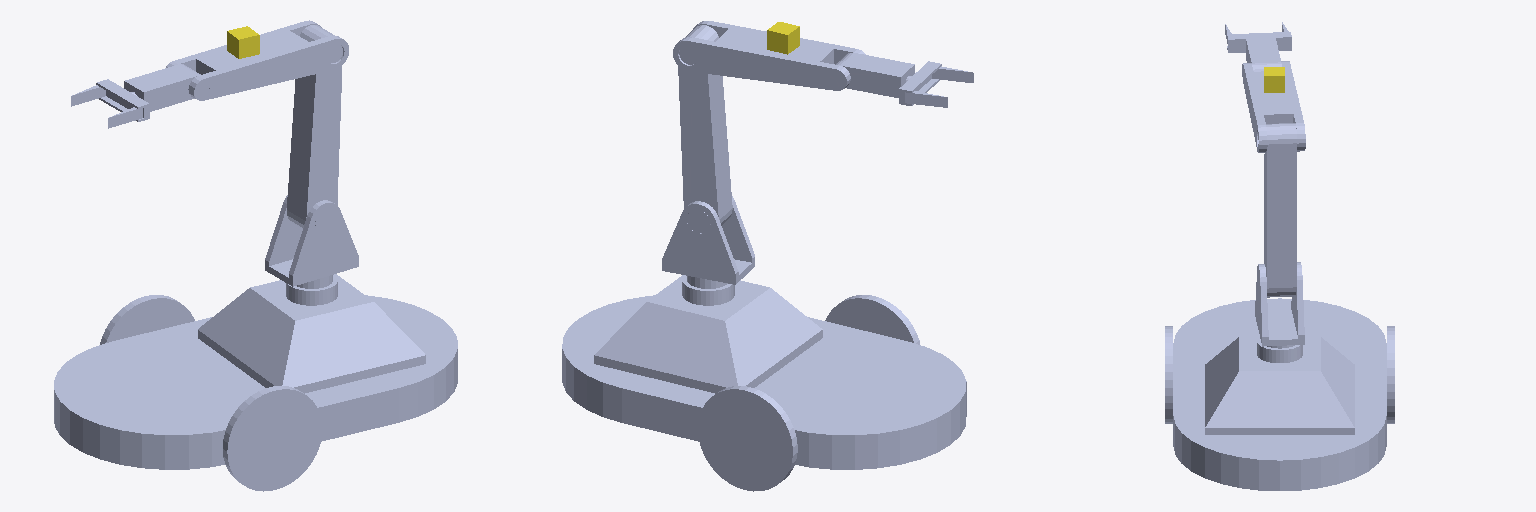
--- Facts derived from the render (not from the file) ---
Views: 3 orthographic renders of the robot side by side, from view 1: azimuth 30°, elevation 25°; view 2: azimuth 150°, elevation 25°; view 3: azimuth 270°, elevation 25°.
Model mobile with 13 links and 12 joints (5 revolute, 2 continuous, 2 prismatic, 3 fixed), rooted at base_link, posed every joint at zero.
Visible links, largest first — view 1: base_link, base_arm, rightlink, link2, link3, link1, leftlink, link4, link5, camera; view 2: base_link, base_arm, leftlink, link2, link3, link1, rightlink, link4, camera, link5; view 3: base_link, base_arm, link2, link3, link1, link4, leftlink, rightlink, link5, camera.
Boxes of the visible links, x1,y1,x2,y2 form: base_link: (54,295,457,469); base_arm: (198,274,425,393); rightlink: (223,386,322,491); link2: (287,25,342,232); link3: (166,20,348,100); link1: (265,195,358,288); leftlink: (100,295,194,344); link4: (124,64,208,111); link5: (96,79,149,121); camera: (227,26,259,58); base_link: (562,295,966,469); base_arm: (594,275,822,393); leftlink: (698,386,797,491); link2: (678,25,732,233); link3: (673,21,865,90); link1: (662,196,754,303); rightlink: (825,295,919,344); link4: (830,53,914,97); camera: (767,22,799,54); link5: (899,61,941,105); base_link: (1173,298,1386,490); base_arm: (1205,336,1354,434); link2: (1258,123,1296,297); link3: (1242,61,1305,152); link1: (1255,262,1304,348); link4: (1243,37,1281,79); leftlink: (1387,326,1394,423); rightlink: (1165,326,1172,423); link5: (1227,32,1291,52); camera: (1264,67,1284,92).
Bounding box of the posed robot: 0.9 × 0.54 × 0.9396 m (x, y, z).
Meshes: 12 distinct files referenced, 11 mesh visuals loaded (11 binary STL); not drawn: 1 (reference not matched to a file when rendering).

The robot description file, URDF, robot "mobile":
<?xml version="1.0" encoding="utf-8" ?>
<!-- This URDF was automatically created by SolidWorks to URDF Exporter! Originally created by Stephen Brawner ([email redacted]) 
     Commit Version: 1.6.0-4-g7f85cfe  Build Version: 1.6.7995.38578
     For more information, please see http://wiki.ros.org/sw_urdf_exporter -->
<robot name="mobile">
    <link name="base_link">
        <inertial>
            <origin xyz="0.0138190144496119 0 -0.0431673900274688" rpy="0 0 0" />
            <mass value="31.7075369483224" />
            <inertia ixx="0.575605061304987" ixy="3.51082356052424E-16" ixz="0.0186981817600818" iyy="1.81309521166369" iyz="2.71935379746767E-18" izz="2.34074148213745" />
        </inertial>
        <visual>
            <origin xyz="0 0 0" rpy="0 0 0" />
            <geometry>
                <mesh filename="package://mobile/meshes/base_link.STL" />
            </geometry>
            <material name="">
                <color rgba="0.792156862745098 0.819607843137255 0.933333333333333 1" />
            </material>
        </visual>
        <collision>
            <origin xyz="0 0 0" rpy="0 0 0" />
            <geometry>
                <mesh filename="package://mobile/meshes/base_link.STL" />
            </geometry>
        </collision>
    </link>
    <link name="leftlink">
        <inertial>
            <origin xyz="0 -0.0150888529886914 1.11022302462516E-16" rpy="0 0 0" />
            <mass value="0.972322926286042" />
            <inertia ixx="0.00298429263256057" ixy="-4.06865911972671E-20" ixz="6.21951588041205E-19" iyy="0.00555828243731783" iyz="-4.3528684667429E-20" izz="0.00298429263256057" />
        </inertial>
        <visual>
            <origin xyz="0 0 0" rpy="0 0 0" />
            <geometry>
                <mesh filename="package://mobile/meshes/leftlink.STL" />
            </geometry>
            <material name="">
                <color rgba="0.792156862745098 0.819607843137255 0.933333333333333 1" />
            </material>
        </visual>
        <collision>
            <origin xyz="0 0 0" rpy="0 0 0" />
            <geometry>
                <mesh filename="package://mobile/meshes/leftlink.STL" />
            </geometry>
        </collision>
    </link>
    <joint name="leftjoint" type="continuous">
        <origin xyz="-0.11 0.27 -0.04" rpy="0 0 0" />
        <parent link="base_link" />
        <child link="leftlink" />
        <axis xyz="0 -1 0" />
        <limit effort="1" velocity="1" />
    </joint>
    <link name="rightlink">
        <inertial>
            <origin xyz="0 0.0150888529886914 0" rpy="0 0 0" />
            <mass value="0.97232292628604" />
            <inertia ixx="0.00298429263256056" ixy="5.64638728743207E-20" ixz="-8.62185923183121E-35" iyy="0.00555828243731782" iyz="-1.36346232656228E-35" izz="0.00298429263256056" />
        </inertial>
        <visual>
            <origin xyz="0 0 0" rpy="0 0 0" />
            <geometry>
                <mesh filename="package://mobile/meshes/rightlink.STL" />
            </geometry>
            <material name="">
                <color rgba="0.792156862745098 0.819607843137255 0.933333333333333 1" />
            </material>
        </visual>
        <collision>
            <origin xyz="0 0 0" rpy="0 0 0" />
            <geometry>
                <mesh filename="package://mobile/meshes/rightlink.STL" />
            </geometry>
        </collision>
    </link>
    <joint name="rightjoint" type="continuous">
        <origin xyz="-0.11 -0.27 -0.04" rpy="0 0 0" />
        <parent link="base_link" />
        <child link="rightlink" />
        <axis xyz="0 -1 0" />
    </joint>
    <link name="base_arm">
        <inertial>
            <origin xyz="0.135 0 0.0513630393832272" rpy="0 0 0" />
            <mass value="9.57504950586454" />
            <inertia ixx="0.0928627005287626" ixy="-2.14059146999494E-17" ixz="7.75348749148665E-18" iyy="0.0928627005287626" iyz="-9.62616851588067E-18" izz="0.163110185871387" />
        </inertial>
        <visual>
            <origin xyz="0 0 0" rpy="0 0 0" />
            <geometry>
                <mesh filename="package://mobile/meshes/base_arm.STL" />
            </geometry>
            <material name="">
                <color rgba="0.792156862745098 0.819607843137255 0.933333333333333 1" />
            </material>
        </visual>
        <collision>
            <origin xyz="0 0 0" rpy="0 0 0" />
            <geometry>
                <mesh filename="package://mobile/meshes/base_arm.STL" />
            </geometry>
        </collision>
    </link>
    <joint name="base_arm_j" type="fixed">
        <origin xyz="0 0 0" rpy="0 0 0" />
        <parent link="base_link" />
        <child link="base_arm" />
        <axis xyz="0 0 0" />
    </joint>
    <link name="link1">
        <inertial>
            <origin xyz="1.60982338570648E-15 9.99200722162641E-16 0.0962519948396813" rpy="0 0 0" />
            <mass value="1.2867673371048" />
            <inertia ixx="0.00574899022438492" ixy="-3.08328527862465E-05" ixz="5.9130393376342E-19" iyy="0.00605670094642953" iyz="-1.55333022598435E-18" izz="0.00299466513021321" />
        </inertial>
        <visual>
            <origin xyz="0 0 0" rpy="0 0 0" />
            <geometry>
                <mesh filename="package://mobile/meshes/link1.STL" />
            </geometry>
            <material name="">
                <color rgba="0.792156862745098 0.819607843137255 0.933333333333333 1" />
            </material>
        </visual>
        <collision>
            <origin xyz="0 0 0" rpy="0 0 0" />
            <geometry>
                <mesh filename="package://mobile/meshes/link1.STL" />
            </geometry>
        </collision>
    </link>
    <joint name="link1_j" type="revolute">
        <origin xyz="0.135 0 0.1" rpy="0 0 0" />
        <parent link="base_arm" />
        <child link="link1" />
        <axis xyz="0 0 1" />
        <limit lower="0" upper="6.284" effort="300" velocity="3" />
    </joint>
    <link name="link2">
        <inertial>
            <origin xyz="0.0152793909089112 -0.0487295487047015 0.17785147178054" rpy="0 0 0" />
            <mass value="2.35926366465447" />
            <inertia ixx="0.0409676709612601" ixy="3.73610748781228E-07" ixz="-0.00225874714320909" iyy="0.0409639423399071" iyz="-0.000224100350712859" izz="0.00226006139791823" />
        </inertial>
        <visual>
            <origin xyz="0 0 0" rpy="0 0 0" />
            <geometry>
                <mesh filename="package://mobile/meshes/link2.STL" />
            </geometry>
            <material name="">
                <color rgba="0.792156862745098 0.819607843137255 0.933333333333333 1" />
            </material>
        </visual>
        <collision>
            <origin xyz="0 0 0" rpy="0 0 0" />
            <geometry>
                <mesh filename="package://mobile/meshes/link2.STL" />
            </geometry>
        </collision>
    </link>
    <joint name="link2_j" type="revolute">
        <origin xyz="-0.00493648572628486 0.0497557143318654 0.22" rpy="0 0 0" />
        <parent link="link1" />
        <child link="link2" />
        <axis xyz="0.098729714525699 -0.995114286637306 0" />
        <limit lower="-1.57" upper="1.982" effort="300" velocity="3" />
    </joint>
    <link name="link3">
        <inertial>
            <origin xyz="-0.159186253677725 -0.0710636098100677 0.00486332831886899" rpy="0 0 0" />
            <mass value="1.84613046379197" />
            <inertia ixx="0.00284341050510619" ixy="-0.0011552709461591" ixz="0.000389853066158717" iyy="0.0143729715049999" iyz="3.86790567130589E-05" izz="0.0160431107662921" />
        </inertial>
        <visual>
            <origin xyz="0 0 0" rpy="0 0 0" />
            <geometry>
                <mesh filename="package://mobile/meshes/link3.STL" />
            </geometry>
            <material name="">
                <color rgba="0.792156862745098 0.819607843137255 0.933333333333333 1" />
            </material>
        </visual>
        <collision>
            <origin xyz="0 0 0" rpy="0 0 0" />
            <geometry>
                <mesh filename="package://mobile/meshes/link3.STL" />
            </geometry>
        </collision>
    </link>
    <joint name="link3_j" type="revolute">
        <origin xyz="0.0215748788843777 0.007165088200347 0.379479461423349" rpy="0 0 0" />
        <parent link="link2" />
        <child link="link3" />
        <axis xyz="-0.0987297145256989 0.995114286637306 0" />
        <limit lower="-0.7" upper="1.65" effort="200" velocity="3" />
    </joint>
    <link name="link4">
        <inertial>
            <origin xyz="-0.05024889842285 -0.0602554502550051 1.38777878078145E-17" rpy="0 0 0" />
            <mass value="0.577179196137117" />
            <inertia ixx="0.000409291654613533" ixy="-9.37772265644118E-05" ixz="-1.21006663501339E-19" iyy="0.00134518488179969" iyz="8.80934192830478E-20" izz="0.00152642026654833" />
        </inertial>
        <visual>
            <origin xyz="0 0 0" rpy="0 0 0" />
            <geometry>
                <mesh filename="package://mobile/meshes/link4 .STL" />
            </geometry>
            <material name="">
                <color rgba="0.792156862745098 0.819607843137255 0.933333333333333 1" />
            </material>
        </visual>
        <collision>
            <origin xyz="0 0 0" rpy="0 0 0" />
            <geometry>
                <mesh filename="package://mobile/meshes/link4 .STL" />
            </geometry>
        </collision>
    </link>
    <joint name="link4_j" type="revolute">
        <origin xyz="-0.338485039839798 -0.033582606343168 0.00999999999999998" rpy="0 0 0" />
        <parent link="link3" />
        <child link="link4" />
        <axis xyz="-0.0987297145256988 0.995114286637306 0" />
        <limit lower="0.0" upper="2.5" effort="200" velocity="3" />
    </joint>
    <link name="link5">
        <inertial>
            <origin xyz="-0.0305789188235419 -0.00303387054782905 -1.38777878078145E-17" rpy="0 0 0" />
            <mass value="0.112049224746715" />
            <inertia ixx="0.000202087727609559" ixy="1.76199067891951E-05" ixz="-1.11543755946178E-20" iyy="2.62417143311385E-05" iyz="1.1529456435668E-19" izz="0.00020118887750736" />
        </inertial>
        <visual>
            <origin xyz="0 0 0" rpy="0 0 0" />
            <geometry>
                <mesh filename="package://mobile/meshes/link5 .STL" />
            </geometry>
            <material name="">
                <color rgba="0.792156862745098 0.819607843137255 0.933333333333333 1" />
            </material>
        </visual>
        <collision>
            <origin xyz="0 0 0" rpy="0 0 0" />
            <geometry>
                <mesh filename="package://mobile/meshes/link5 .STL" />
            </geometry>
        </collision>
    </link>
    <joint name="link5_j" type="revolute">
        <origin xyz="-0.124929837250573 -0.0676648783679186 0" rpy="0 0 0" />
        <parent link="link4" />
        <child link="link5" />
        <axis xyz="-0.995114286637306 -0.0987297145257001 0" />
        <limit lower="0" upper="3.142" effort="200" velocity="3" />
    </joint>
    <link name="grip1">
        <inertial>
            <origin xyz="-0.0214211541590298 0.0639776643764789 -0.015" rpy="0 0 0" />
            <mass value="0.016875" />
            <inertia ixx="1.28615243383173E-06" ixy="-1.34581750830488E-06" ixz="-1.34022471571019E-21" iyy="8.27634756616828E-06" iyz="-4.81344786060294E-22" izz="7.80468750000001E-06" />
        </inertial>
        <visual>
            <origin xyz="0 0 0" rpy="0 0 0" />
            <geometry>
                <mesh filename="package://mobile/meshes/grip1.STL" />
            </geometry>
            <material name="">
                <color rgba="0.792156862745098 0.819607843137255 0.933333333333333 1" />
            </material>
        </visual>
        <collision>
            <origin xyz="0 0 0" rpy="0 0 0" />
            <geometry>
                <mesh filename="package://mobile/meshes/grip1.STL" />
            </geometry>
        </collision>
    </link>
    <joint name="grip1_j" type="prismatic">
        <origin xyz="-0.0517459429051399 -0.00513394515533633 0.015" rpy="0 0 0" />
        <parent link="link5" />
        <child link="grip1" />
        <axis xyz="-0.098729714525699 0.995114286637306 0" />
        <limit lower="-0.05" upper="0" effort="200" velocity="3" />
    </joint>
    <link name="grip2">
        <inertial>
            <origin xyz="-0.00823826841331998 -0.0688949769320137 -0.0149999999999999" rpy="0 0 0" />
            <mass value="0.016875" />
            <inertia ixx="1.28615243383173E-06" ixy="-1.34581750830488E-06" ixz="-4.06011194401537E-21" iyy="8.27634756616828E-06" iyz="-6.56629635238384E-22" izz="7.80468750000001E-06" />
        </inertial>
        <visual>
            <origin xyz="0 0 0" rpy="0 0 0" />
            <geometry>
                <mesh filename="package://mobile/meshes/grip2.STL" />
            </geometry>
            <material name="">
                <color rgba="0.792156862745098 0.819607843137255 0.933333333333333 1" />
            </material>
        </visual>
        <collision>
            <origin xyz="0 0 0" rpy="0 0 0" />
            <geometry>
                <mesh filename="package://mobile/meshes/grip2.STL" />
            </geometry>
        </collision>
    </link>
    <joint name="grip2_j" type="prismatic">
        <origin xyz="-0.0517459429051399 -0.00513394515533633 0.015" rpy="0 0 0" />
        <parent link="link5" />
        <child link="grip2" />
        <axis xyz="-0.098729714525699 0.995114286637306 0" />
        <limit lower="0" upper="0.05" effort="200" velocity="3" />
    </joint>
    <!-- Camera -->
    <link name="camera">
        <collision>
            <origin xyz="0.0 0.0 0.0" rpy="0 0 0" />
            <geometry>
                <box size="0.05 0.05 0.05" />
            </geometry>
        </collision>
        <visual>
            <origin xyz="0.0 0.0 0.0" rpy="0 0 0" />
            <geometry>
                <box size="0.05 0.05 0.05" />
            </geometry>
            <material name="green" />
        </visual>
        <inertial>
            <mass value="1e-5" />
            <origin xyz="0.0 0.0 0.0" rpy="0 0 0" />
            <box_inertia m="0.1" x="0.05" y="0.05" z="0.05" />
            <inertia ixx="1e-6" ixy="0" ixz="0" iyy="1e-6" iyz="0" izz="1e-6" />
        </inertial>
    </link>
    <joint name="camera_joint" type="fixed">
        <axis xyz="0 1 0" />
        <origin xyz="-0.19 -0.07 0.0551" rpy="0 0 3.14159" />
        <parent link="link3" />
        <child link="camera" />
    </joint>
    <!-- Hokuyo Laser -->
    <link name="hokuyo_link">
        <collision>
            <origin xyz="0 0 0" rpy="0 0 0" />
            <geometry>
                <box size="0.1 0.1 0.1" />
            </geometry>
        </collision>
        <visual>
            <origin xyz="0 0 0" rpy="0 0 0" />
            <geometry>
                <mesh filename="package://mobile/meshes/hokuyo.dae" />
            </geometry>
        </visual>
        <inertial>
            <mass value="1e-5" />
            <origin xyz="0 0 0" rpy="0 0 0" />
            <inertia ixx="1e-6" ixy="0" ixz="0" iyy="1e-6" iyz="0" izz="1e-6" />
        </inertial>
    </link>
    <joint name="hokuyo_joint" type="fixed">
        <axis xyz="0 1 0" />
        <origin xyz="-0.41 0 0.01" rpy="0 0 3.14159" />
        <parent link="base_link" />
        <child link="hokuyo_link" />
    </joint>
    <gazebo>
        <plugin name="differential_drive_controller" filename="libgazebo_ros_diff_drive.so">
            <!-- Plugin update rate in Hz -->
            <updateRate>50</updateRate>
            <!-- Name of left joint, defaults to `left_joint` -->
            <leftJoint>leftjoint</leftJoint>
            <!-- Name of right joint, defaults to `right_joint` -->
            <rightJoint>rightjoint</rightJoint>
            <!-- The distance from the center of one wheel to the other, in meters, defaults to 0.34 m -->
            <wheelSeparation>0.5</wheelSeparation>
            <!-- Diameter of the wheels, in meters, defaults to 0.15 m -->
            <wheelDiameter>0.23</wheelDiameter>
            <!-- Wheel acceleration, in rad/s^2, defaults to 0.0 rad/s^2 -->
            <wheelAcceleration>1.0</wheelAcceleration>
            <!-- Maximum torque which the wheels can produce, in Nm, defaults to 5 Nm -->
            <wheelTorque>20</wheelTorque>
            <!-- Topic to receive geometry_msgs/Twist message commands, defaults to `cmd_vel` -->
            <commandTopic>cmd_vel</commandTopic>
            <!-- Topic to publish nav_msgs/Odometry messages, defaults to `odom` -->
            <odometryTopic>odom</odometryTopic>
            <!-- Odometry frame, defaults to `odom` -->
            <odometryFrame>odom</odometryFrame>
            <!-- Robot frame to calculate odometry from, defaults to `base_footprint` -->
            <robotBaseFrame>base_link</robotBaseFrame>
            <!-- Odometry source, 0 for ENCODER, 1 for WORLD, defaults to WORLD -->
            <odometrySource>1</odometrySource>
            <!-- Set to true to publish transforms for the wheel links, defaults to false -->
            <publishWheelTF>true</publishWheelTF>
            <!-- Set to true to publish transforms for the odometry, defaults to true -->
            <publishOdom>true</publishOdom>
            <!-- Set to true to publish sensor_msgs/JointState on /joint_states for the wheel joints, defaults to false -->
            <publishWheelJointState>true</publishWheelJointState>
            <!-- Set to true to swap right and left wheels, defaults to true -->
            <legacyMode>false</legacyMode>
        </plugin>
    </gazebo>
    <!-- camera -->
    <gazebo reference="camera">
        <sensor type="camera" name="camera1">
            <update_rate>30.0</update_rate>
            <camera name="head">
                <horizontal_fov>1.3962634</horizontal_fov>
                <image>
                    <width>800</width>
                    <height>800</height>
                    <format>R8G8B8</format>
                </image>
                <clip>
                    <near>0.02</near>
                    <far>300</far>
                </clip>
                <noise>
                    <type>gaussian</type>
                    <!-- Noise is sampled independently per pixel on each frame.
               That pixel's noise value is added to each of its color
               channels, which at that point lie in the range [0,1]. -->
                    <mean>0.0</mean>
                    <stddev>0.007</stddev>
                </noise>
            </camera>
            <plugin name="camera_controller" filename="libgazebo_ros_camera.so">
                <alwaysOn>true</alwaysOn>
                <updateRate>0.0</updateRate>
                <cameraName>mobile/camera1</cameraName>
                <imageTopicName>image_raw</imageTopicName>
                <cameraInfoTopicName>camera_info</cameraInfoTopicName>
                <frameName>camera</frameName>
                <hackBaseline>0.07</hackBaseline>
                <distortionK1>0.0</distortionK1>
                <distortionK2>0.0</distortionK2>
                <distortionK3>0.0</distortionK3>
                <distortionT1>0.0</distortionT1>
                <distortionT2>0.0</distortionT2>
            </plugin>
        </sensor>
    </gazebo>
    <!-- hokuyo -->
    <gazebo reference="hokuyo_link">
        <sensor type="gpu_ray" name="head_hokuyo_sensor">
            <pose>0 0 0 0 0 0</pose>
            <visualize>true</visualize>
            <update_rate>40</update_rate>
            <ray>
                <scan>
                    <horizontal>
                        <samples>720</samples>
                        <resolution>1</resolution>
                        <min_angle>-1.570796</min_angle>
                        <max_angle>1.570796</max_angle>
                    </horizontal>
                </scan>
                <range>
                    <min>0.10</min>
                    <max>30.0</max>
                    <resolution>0.01</resolution>
                </range>
                <noise>
                    <type>gaussian</type>
                    <!-- Noise parameters based on published spec for Hokuyo laser
               achieving "+-30mm" accuracy at range < 10m.  A mean of 0.0m and
               stddev of 0.01m will put 99.7% of samples within 0.03m of the true
               reading. -->
                    <mean>0.0</mean>
                    <stddev>0.01</stddev>
                </noise>
            </ray>
            <plugin name="gazebo_ros_head_hokuyo_controller" filename="libgazebo_ros_gpu_laser.so">
                <topicName>/mobile/laser/scan</topicName>
                <frameName>hokuyo_link</frameName>
            </plugin>
        </sensor>
    </gazebo>

    <transmission name="trans_leftjoint">
        <type>transmission_interface/SimpleTransmission</type>
        <joint name="leftjoint">
            <hardwareInterface>hardware_interface/PositionJointInterface</hardwareInterface>
        </joint>
        <actuator name="leftjoint_motor">
            <hardwareInterface>hardware_interface/PositionJointInterface</hardwareInterface>
            <mechanicalReduction>1</mechanicalReduction>
        </actuator>
    </transmission>
    <transmission name="trans_rightjoint">
        <type>transmission_interface/SimpleTransmission</type>
        <joint name="rightjoint">
            <hardwareInterface>hardware_interface/PositionJointInterface</hardwareInterface>
        </joint>
        <actuator name="rightjoint_motor">
            <hardwareInterface>hardware_interface/PositionJointInterface</hardwareInterface>
            <mechanicalReduction>1</mechanicalReduction>
        </actuator>
    </transmission>
    <transmission name="trans_link1_j">
        <type>transmission_interface/SimpleTransmission</type>
        <joint name="link1_j">
            <hardwareInterface>hardware_interface/PositionJointInterface</hardwareInterface>
        </joint>
        <actuator name="link1_j_motor">
            <hardwareInterface>hardware_interface/PositionJointInterface</hardwareInterface>
            <mechanicalReduction>1</mechanicalReduction>
        </actuator>
    </transmission>
    <transmission name="trans_link2_j">
        <type>transmission_interface/SimpleTransmission</type>
        <joint name="link2_j">
            <hardwareInterface>hardware_interface/PositionJointInterface</hardwareInterface>
        </joint>
        <actuator name="link2_j_motor">
            <hardwareInterface>hardware_interface/PositionJointInterface</hardwareInterface>
            <mechanicalReduction>1</mechanicalReduction>
        </actuator>
    </transmission>
    <transmission name="trans_link3_j">
        <type>transmission_interface/SimpleTransmission</type>
        <joint name="link3_j">
            <hardwareInterface>hardware_interface/PositionJointInterface</hardwareInterface>
        </joint>
        <actuator name="link3_j_motor">
            <hardwareInterface>hardware_interface/PositionJointInterface</hardwareInterface>
            <mechanicalReduction>1</mechanicalReduction>
        </actuator>
    </transmission>
    <transmission name="trans_link4_j">
        <type>transmission_interface/SimpleTransmission</type>
        <joint name="link4_j">
            <hardwareInterface>hardware_interface/PositionJointInterface</hardwareInterface>
        </joint>
        <actuator name="link4_j_motor">
            <hardwareInterface>hardware_interface/PositionJointInterface</hardwareInterface>
            <mechanicalReduction>1</mechanicalReduction>
        </actuator>
    </transmission>
    <transmission name="trans_link5_j">
        <type>transmission_interface/SimpleTransmission</type>
        <joint name="link5_j">
            <hardwareInterface>hardware_interface/PositionJointInterface</hardwareInterface>
        </joint>
        <actuator name="link5_j_motor">
            <hardwareInterface>hardware_interface/PositionJointInterface</hardwareInterface>
            <mechanicalReduction>1</mechanicalReduction>
        </actuator>
    </transmission>
    <transmission name="trans_grip1_j">
        <type>transmission_interface/SimpleTransmission</type>
        <joint name="grip1_j">
            <hardwareInterface>hardware_interface/PositionJointInterface</hardwareInterface>
        </joint>
        <actuator name="grip1_j_motor">
            <hardwareInterface>hardware_interface/PositionJointInterface</hardwareInterface>
            <mechanicalReduction>1</mechanicalReduction>
        </actuator>
    </transmission>
    <transmission name="trans_grip2_j">
        <type>transmission_interface/SimpleTransmission</type>
        <joint name="grip2_j">
            <hardwareInterface>hardware_interface/PositionJointInterface</hardwareInterface>
        </joint>
        <actuator name="grip2_j_motor">
            <hardwareInterface>hardware_interface/PositionJointInterface</hardwareInterface>
            <mechanicalReduction>1</mechanicalReduction>
        </actuator>
    </transmission>

    <gazebo>
        <plugin name="control" filename="libgazebo_ros_control.so">
            <robotNamespace>/</robotNamespace>
        </plugin>
    </gazebo>  

    <gazebo reference="link1">
        <selfCollide>true</selfCollide>
    </gazebo>

    <gazebo reference="link2">
        <selfCollide>true</selfCollide>
    </gazebo>
    <gazebo reference="link3">
        <selfCollide>true</selfCollide>
    </gazebo>
    <gazebo reference="link4">
        <selfCollide>true</selfCollide>
    </gazebo>
    <gazebo reference="link5">
        <selfCollide>true</selfCollide>
    </gazebo>
    <gazebo reference="link1">
        <selfCollide>true</selfCollide>
    </gazebo>
    <gazebo reference="grip1">
        <selfCollide>true</selfCollide>
    </gazebo>
    <gazebo reference="grip2">
        <selfCollide>true</selfCollide>
    </gazebo>
    
</robot>
